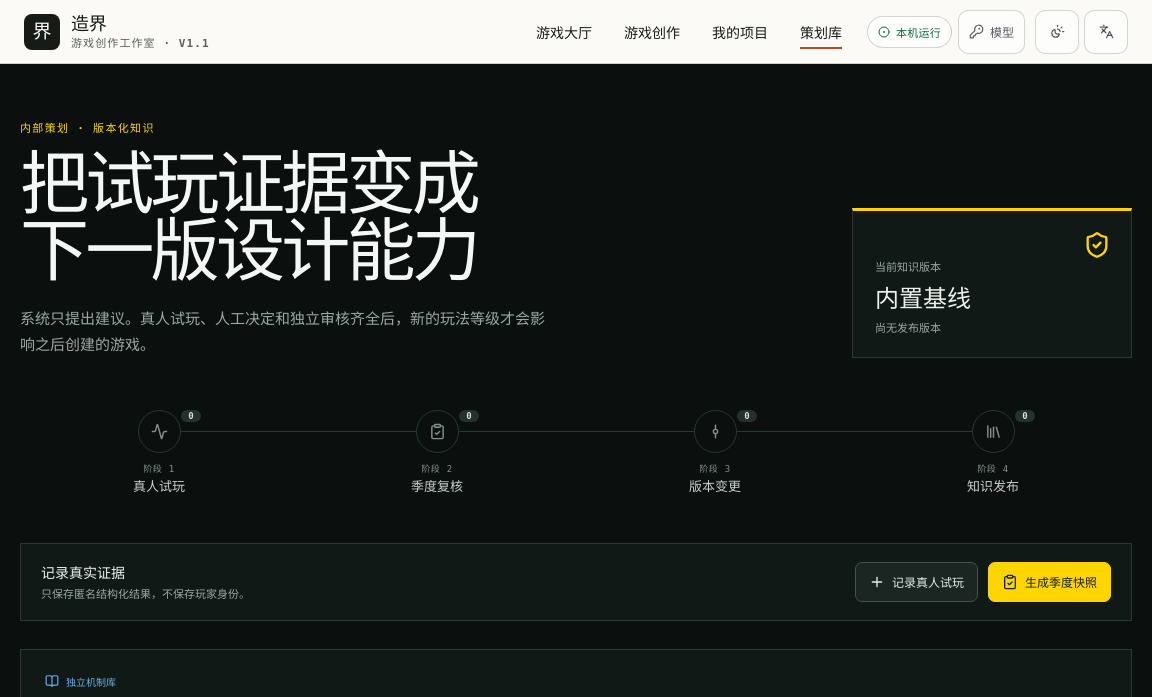
策划知识发布台 › 一键生成快照后重新读取后台状态
Expected: the heading "把试玩证据变成下一版设计能力" is shown, [20, 134, 477, 296]
Click the button "生成季度快照". click: (1050, 582)
box: [988, 562, 1111, 602]
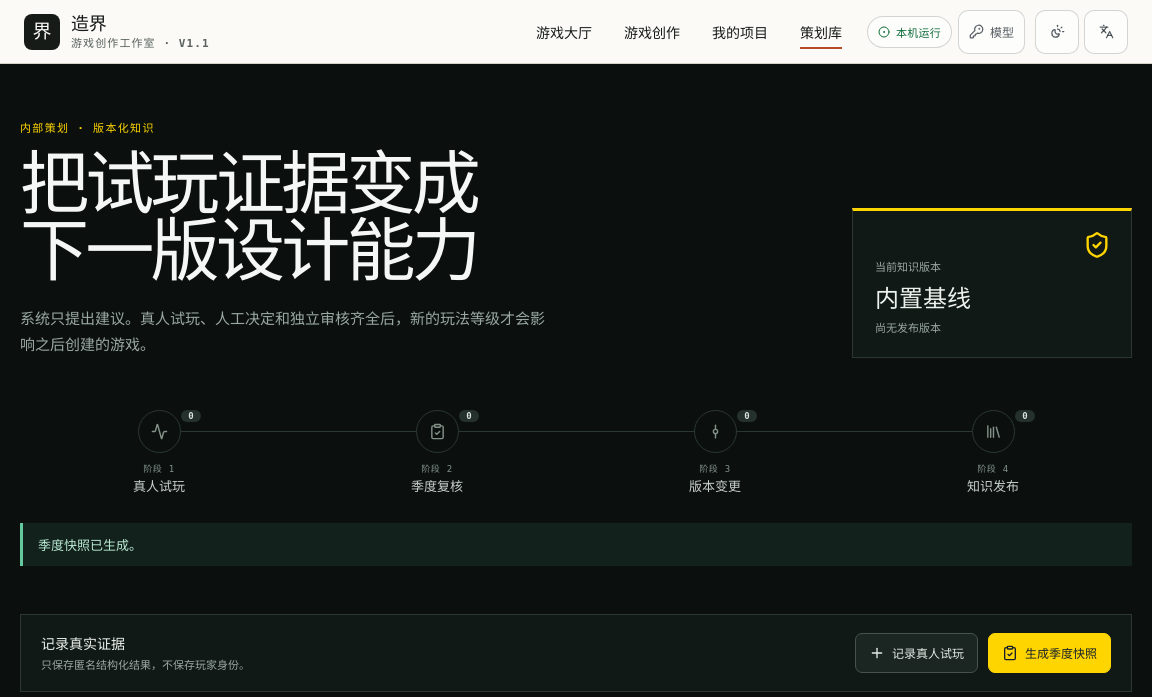
Expected: the text "季度快照已生成。" is shown, [20, 523, 1132, 566]
